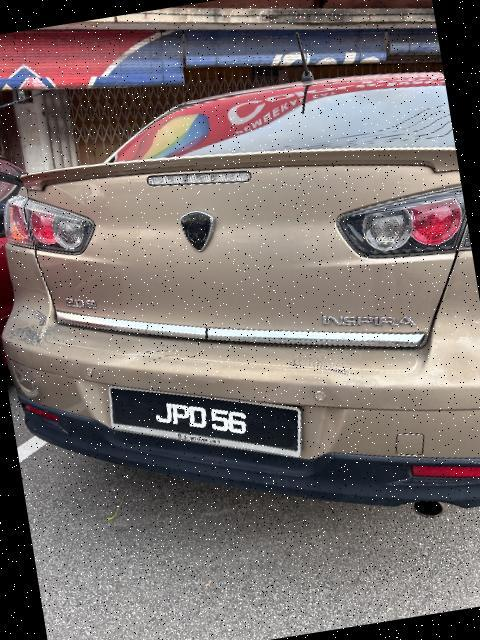License_Plate: (105, 354, 312, 487)
car: (1, 43, 480, 584)
